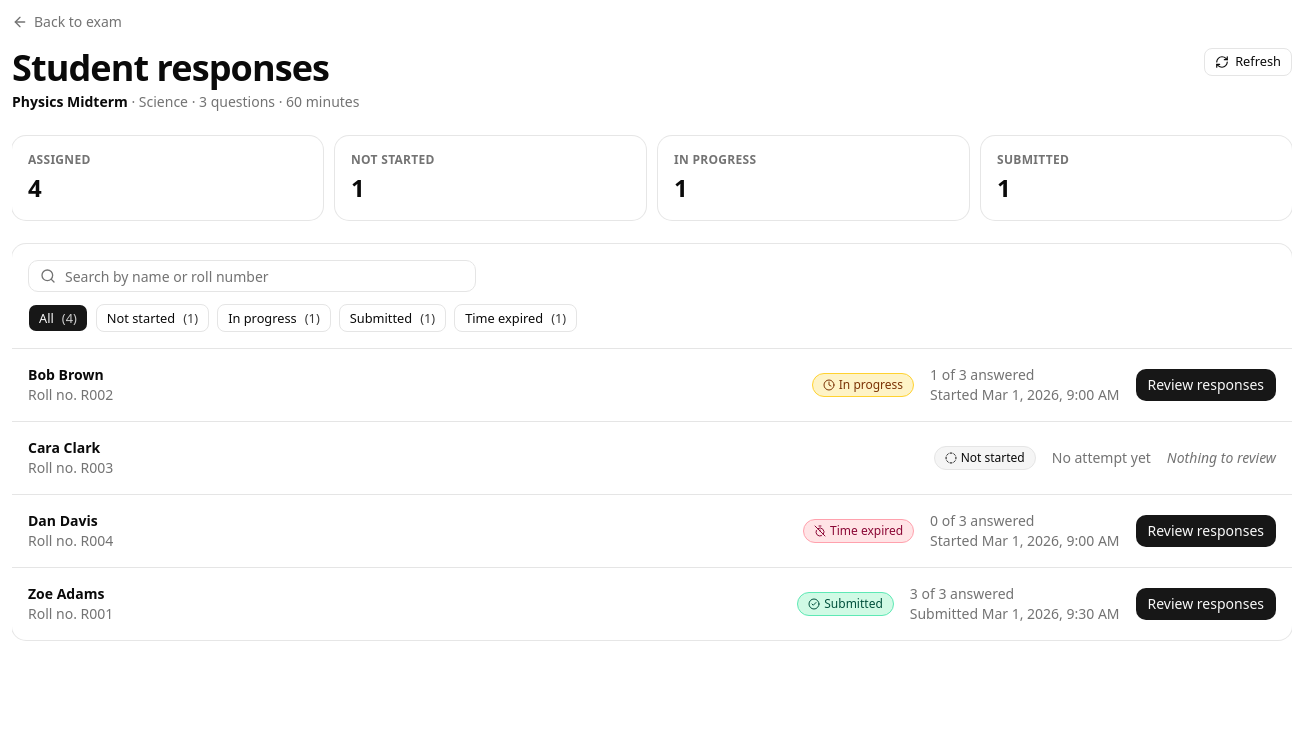
Scenario: ResponseOverview › shows a no-results state for a search with no matches, and clearing restores the list
Check: the text "Zoe Adams" is shown, box [28,584,113,604]
Type "nobody" into the search field named "Search students". click: (252, 276)
box: [28,260,476,292]
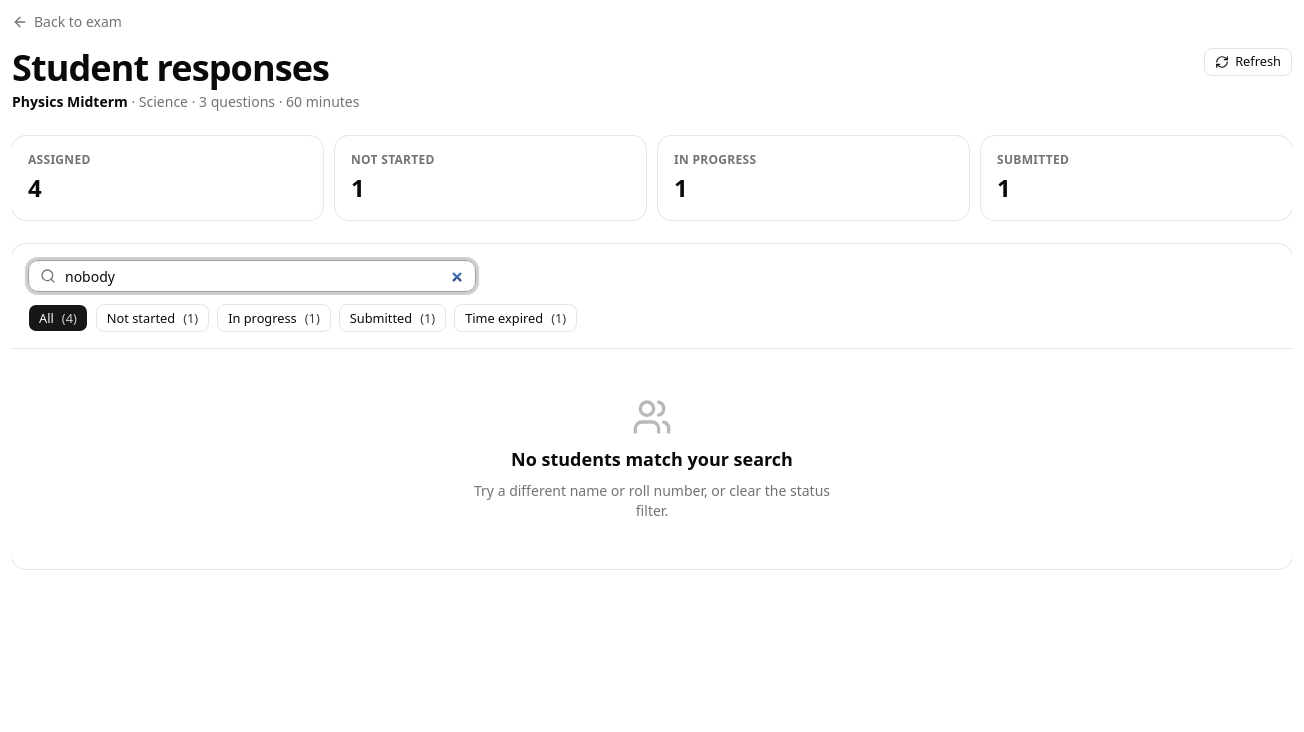
Check: the heading "No students match your search" is shown, box [511,445,793,473]
Clear the search field named "Search students". click: (252, 276)
box: [28,260,476,292]
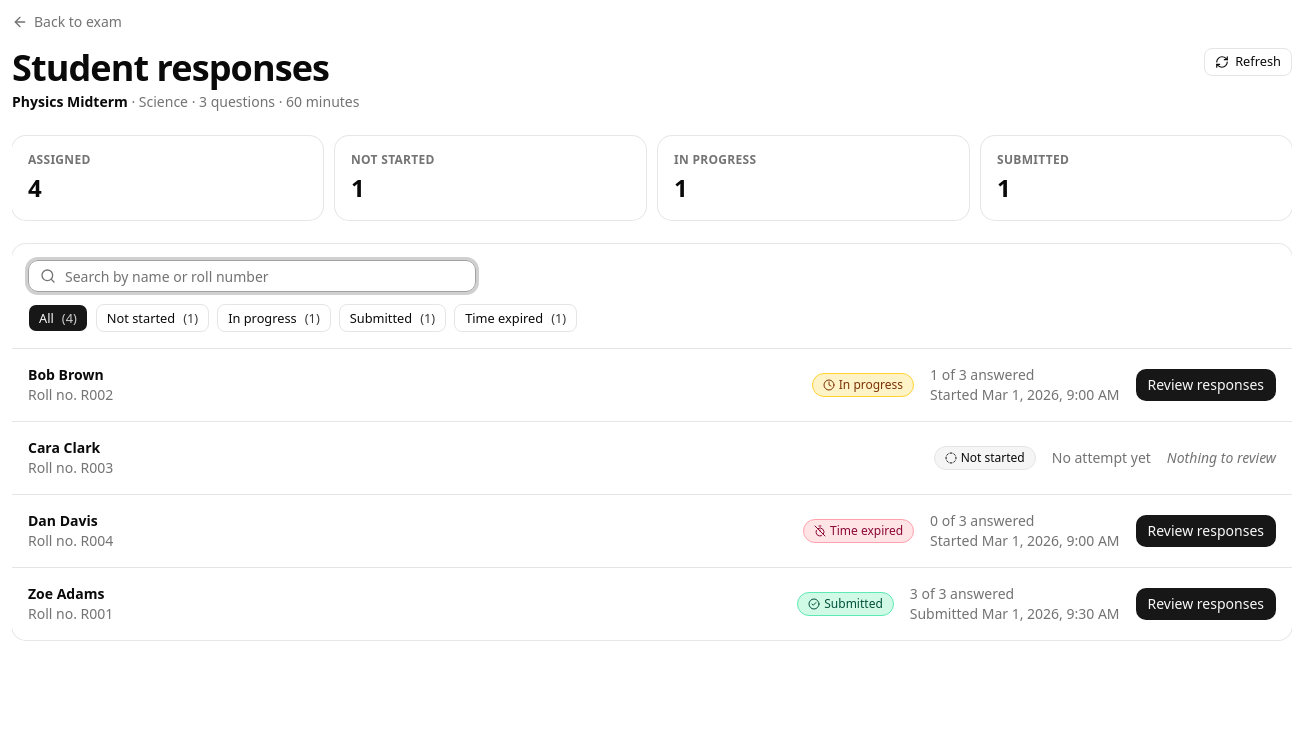
Check: the text "Zoe Adams" is shown, box [28,584,113,604]
